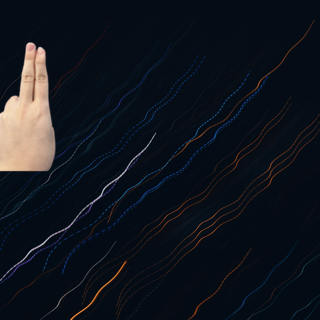DHAVE: (1, 40, 61, 170)
